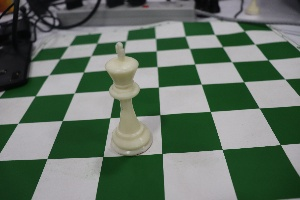white_king: (99, 31, 161, 161)
